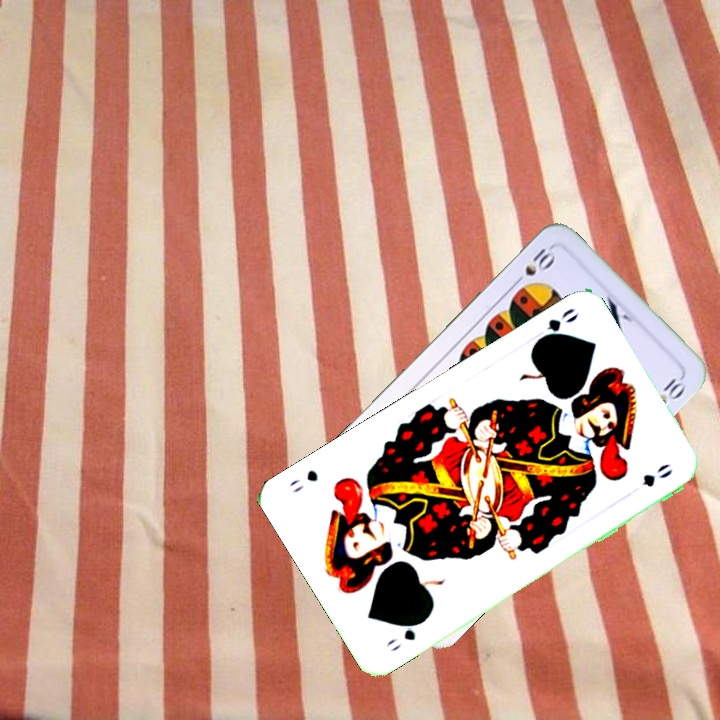GO: (530, 303, 581, 347), (381, 615, 429, 654)
S10: (509, 243, 558, 289)
